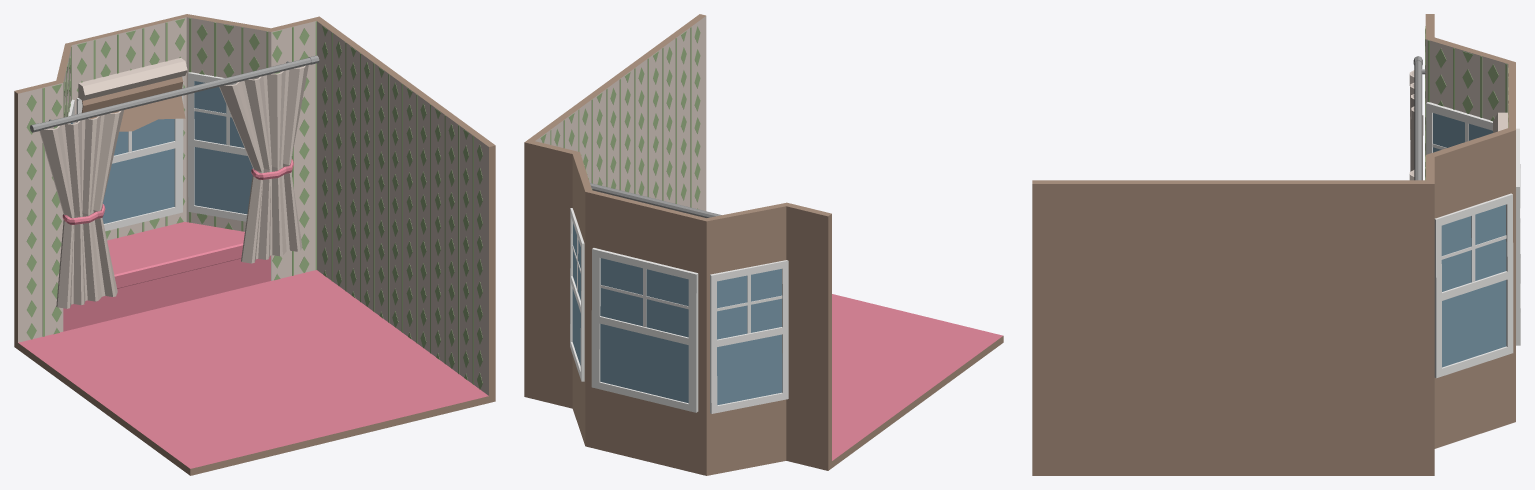
File: room_02.glb
3 views of the same model, side by side, from view 1: azimuth 30°, elevation 25°; view 2: azimuth 150°, elevation 25°; view 3: azimuth 270°, elevation 25° (orthographic). The views are drawn at different scales.
Parts seen in each view (by area): view 1: room_02; view 2: room_02; view 3: room_02.
Part boxes in pixels (x1,y1,x2,y2): room_02: (14,14,495,475); room_02: (524,14,1003,475); room_02: (1032,14,1520,475).
Size of the model in its own units: 5 by 4.01 by 6.07.
Materials: 1 (1 with a texture image).
